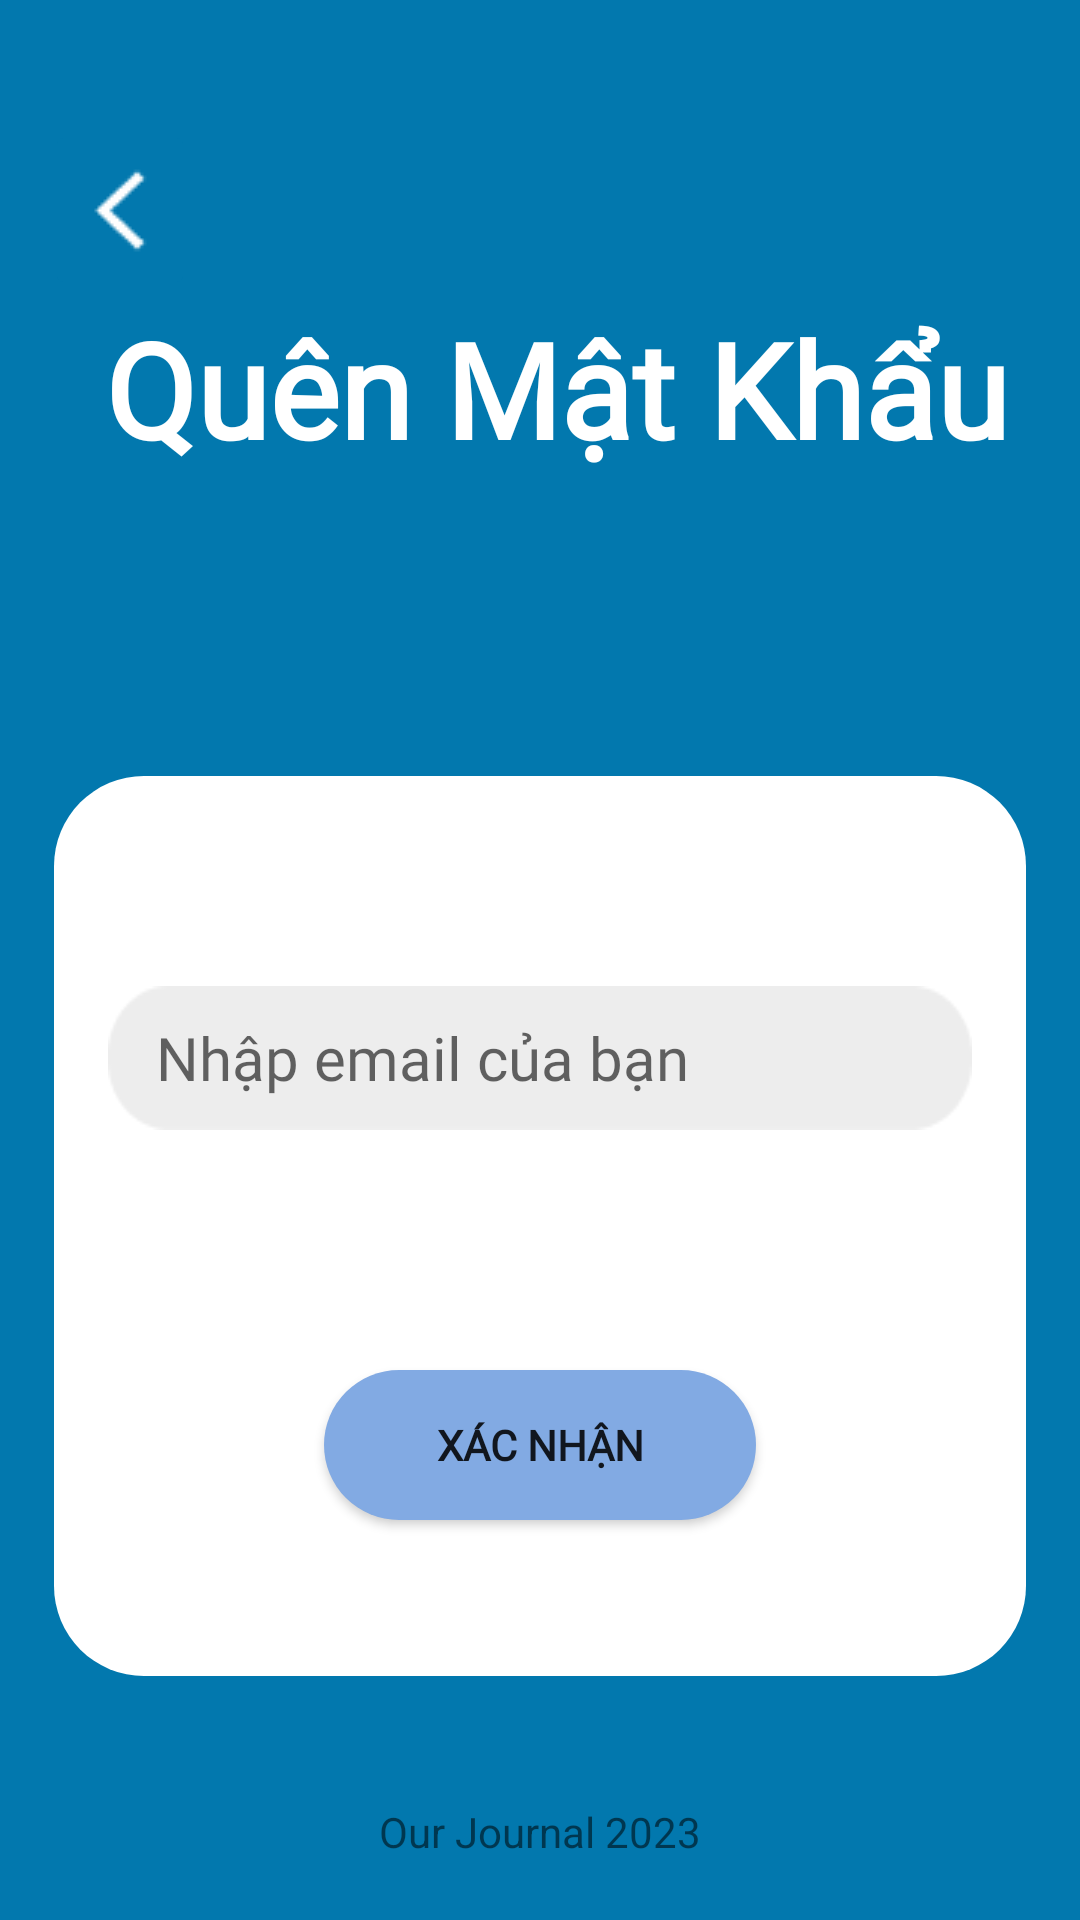

Point at icon controls on the screen. Image size 1080px×1920px, points as (x,y).
forgetpassword arrowback: (119,210)
